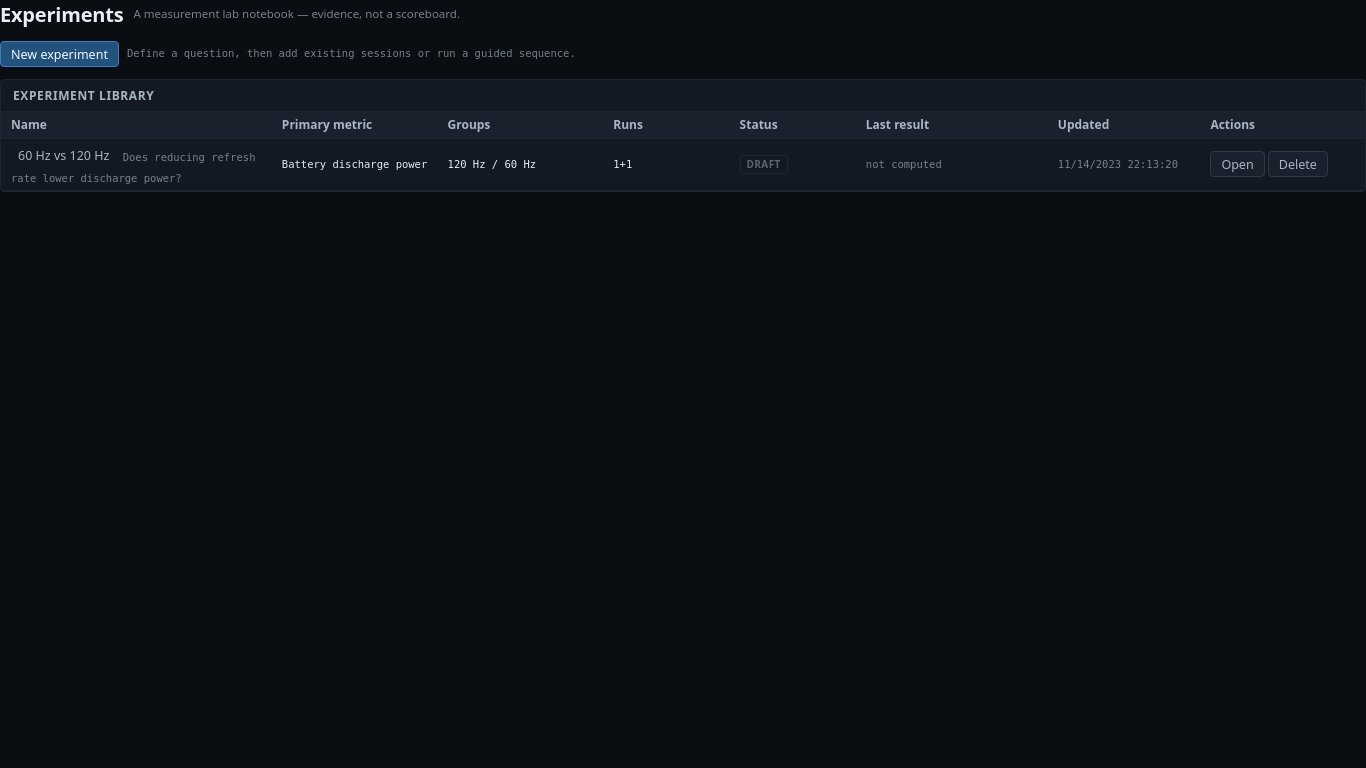
ExperimentsPage › resumes a running guided experiment instead of pretending it is complete
Click the button "60 Hz vs 120 Hz".
click(64, 156)  # box [11,143,116,169]
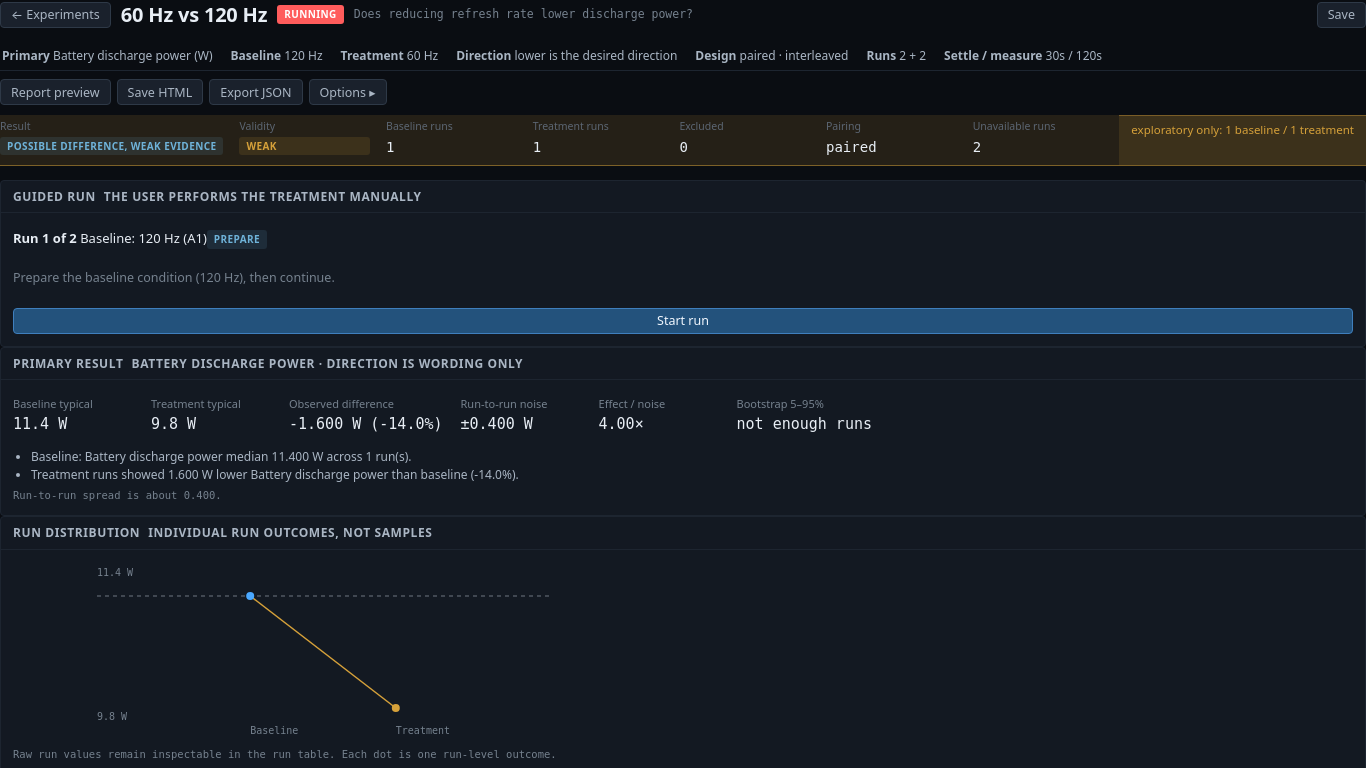
Check: the text "Guided run" is shown, box [13,188,96,205]
Check: the text "Run 1 of 2" is shown, box [13,229,77,247]
Check: the button "Start run" is shown, box [13,308,1353,334]
